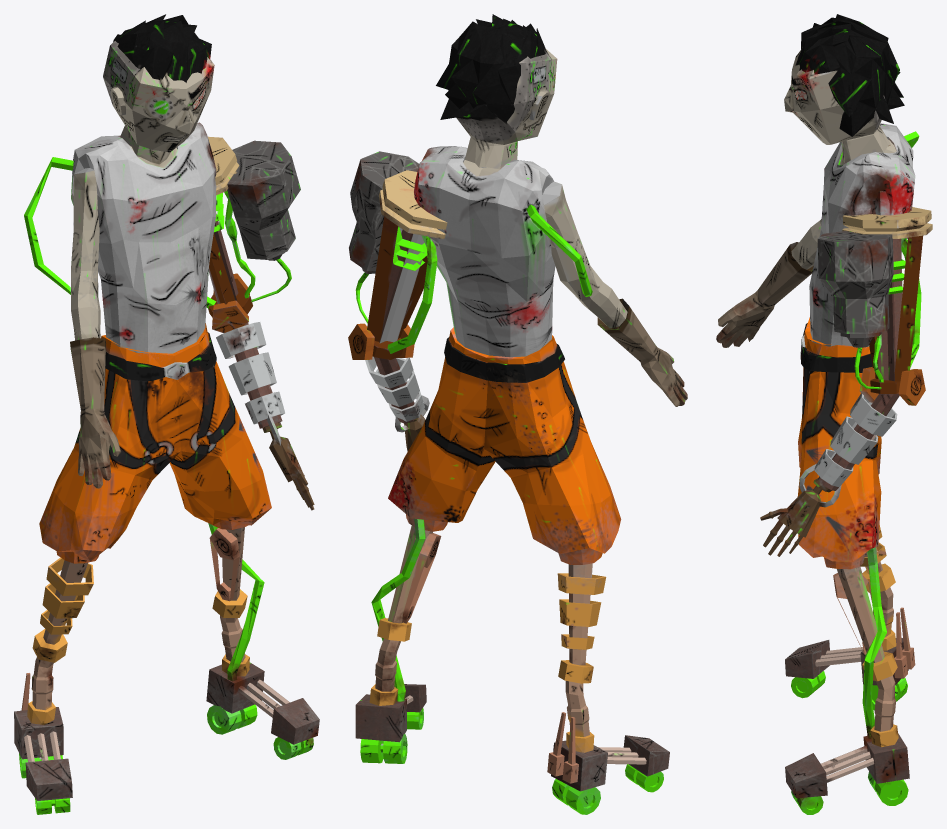
The model's file is CyborgFINALAnimation_000004.obj.
3 views of the same model, side by side, from view 1: azimuth 30°, elevation 25°; view 2: azimuth 150°, elevation 25°; view 3: azimuth 270°, elevation 25° (orthographic). The views are drawn at different scales.
Parts seen in each view (by area): view 1: CyborgMesh_Cube.002; view 2: CyborgMesh_Cube.002; view 3: CyborgMesh_Cube.002.
Boxes of the visible parts, x1=… form: CyborgMesh_Cube.002: x1=14, y1=14, x2=319, y2=814; CyborgMesh_Cube.002: x1=348, y1=14, x2=687, y2=814; CyborgMesh_Cube.002: x1=716, y1=14, x2=932, y2=814.
Size of the model in its own units: 3.86 by 9.65 by 2.58.
